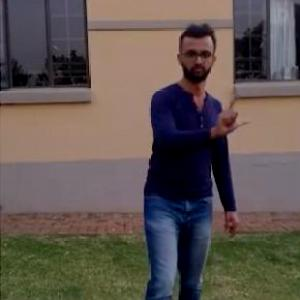land_hand: (208, 90, 254, 140)
